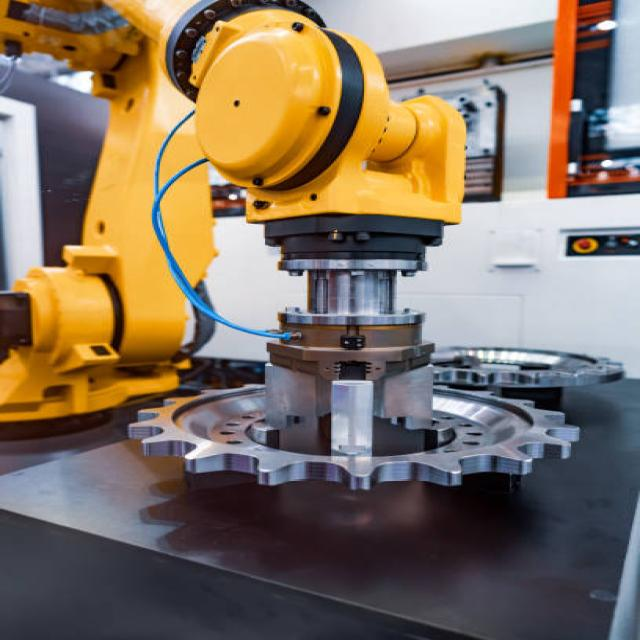Robotic-arm: (0, 0, 481, 426)
